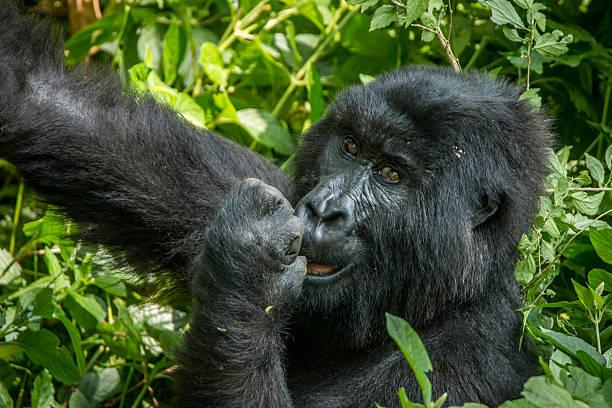goriile_montagne: (21, 10, 600, 408)
